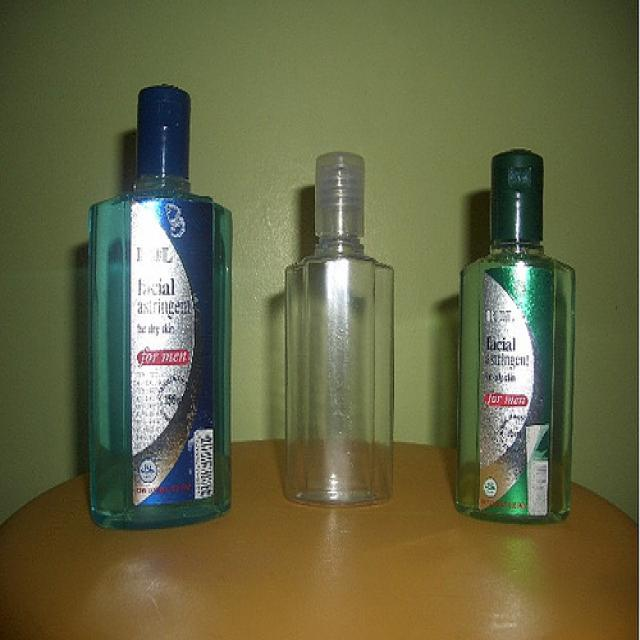bottle: (87, 85, 233, 532), (459, 148, 572, 527), (284, 151, 395, 508)
